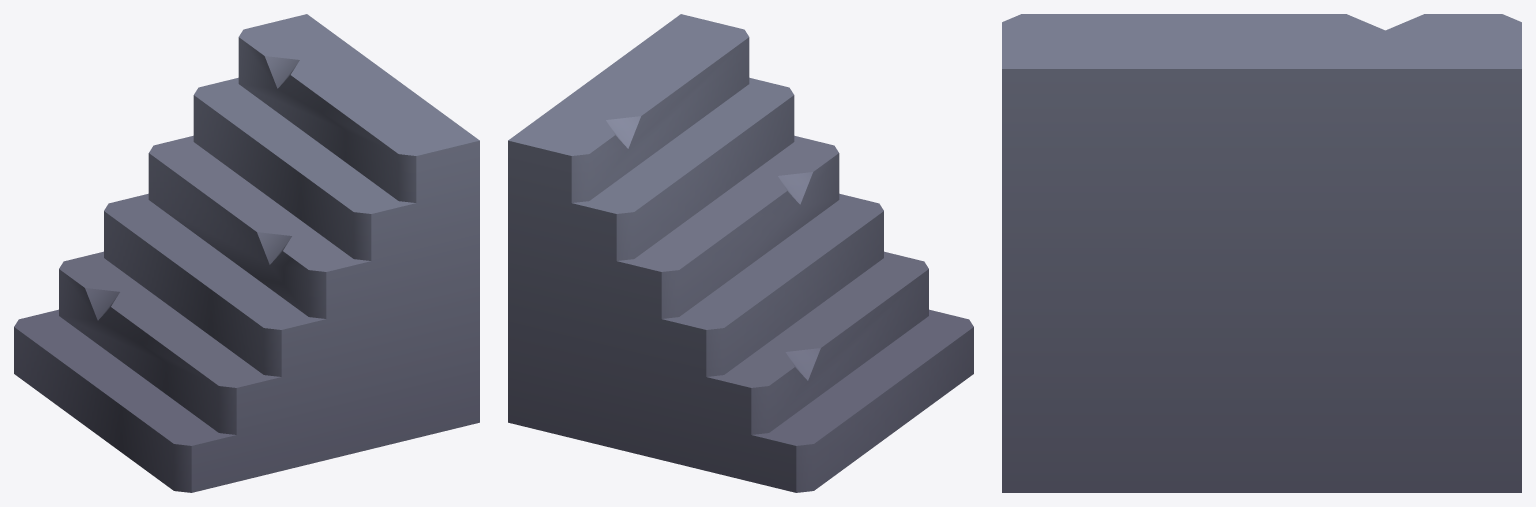
Rendered from stairs.001_lev5.glb.
The picture shows the model from 3 angles, left to right: view 1: azimuth 30°, elevation 25°; view 2: azimuth 150°, elevation 25°; view 3: azimuth 270°, elevation 25°; orthographic projection. The views are drawn at different scales.
Parts seen in each view (by area): view 1: stairs.001_lev5; view 2: stairs.001_lev5; view 3: stairs.001_lev5.
Boxes of the visible parts, box(x1,y1,x2,y2) form: stairs.001_lev5: box(14, 14, 479, 492); stairs.001_lev5: box(508, 14, 973, 492); stairs.001_lev5: box(1002, 14, 1521, 492).
Bounding box in the file's own units: 4 × 3.6 × 4.
Materials: 1 (1 with a texture image).
